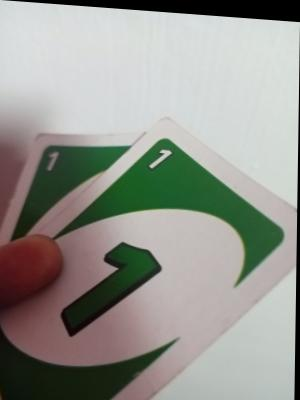green: (35, 137, 93, 222)
num_1: (58, 227, 179, 336), (141, 138, 200, 190)
